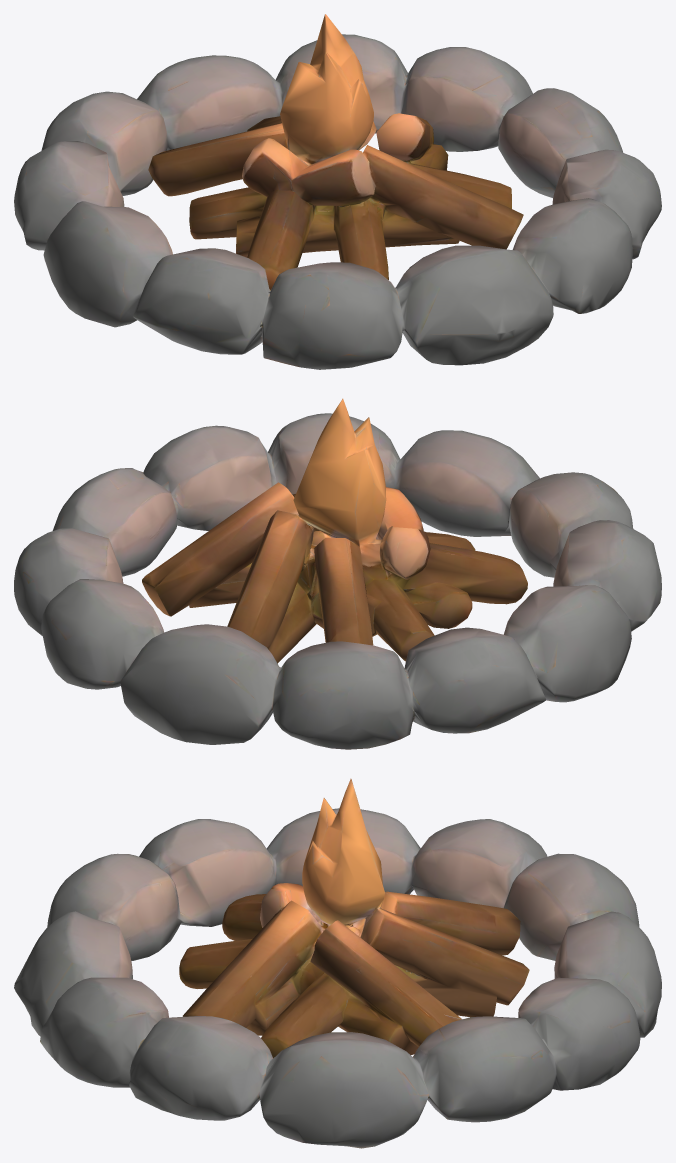
The model's file is campfire.glb.
3 views of the same model, one above another, from view 1: azimuth 30°, elevation 25°; view 2: azimuth 150°, elevation 25°; view 3: azimuth 270°, elevation 25° (orthographic).
Visible parts, largest first — view 1: Mesh_0; view 2: Mesh_0; view 3: Mesh_0.
Boxes of the visible parts, <box> form: Mesh_0: <box>14,14,661,369</box>; Mesh_0: <box>14,398,661,749</box>; Mesh_0: <box>14,778,661,1148</box>.
Bounding box in the file's own units: 1.87 × 0.778 × 1.91.
1 material, 1 textured.
